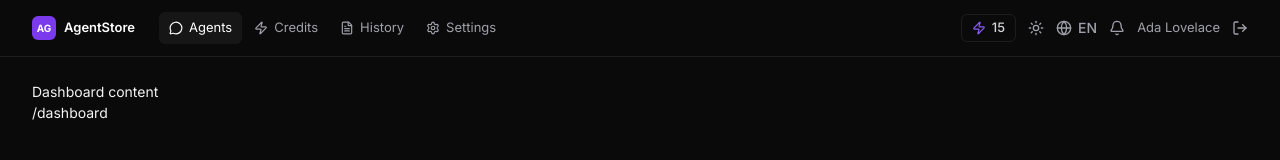
Test: Layout › routes the credits indicator to plan when bundles are unavailable
Step 1. Click the button "15" → click(988, 28), box top-left (961, 14), bottom-right (1016, 42)
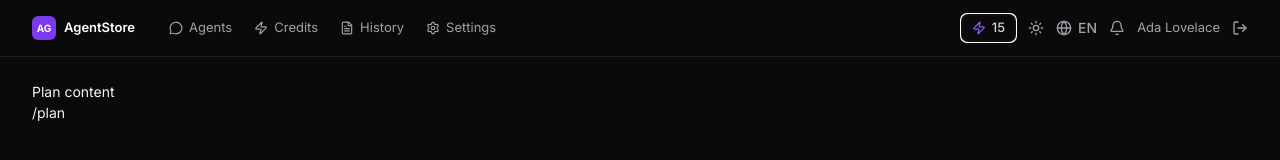
Now the text with test id "location-display" reads "/plan", box top-left (32, 104), bottom-right (65, 121)
